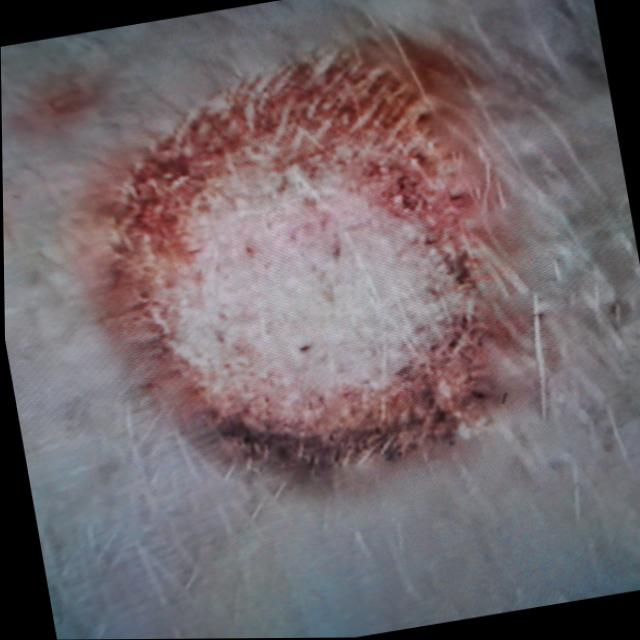ringworm: (51, 1, 603, 525)
